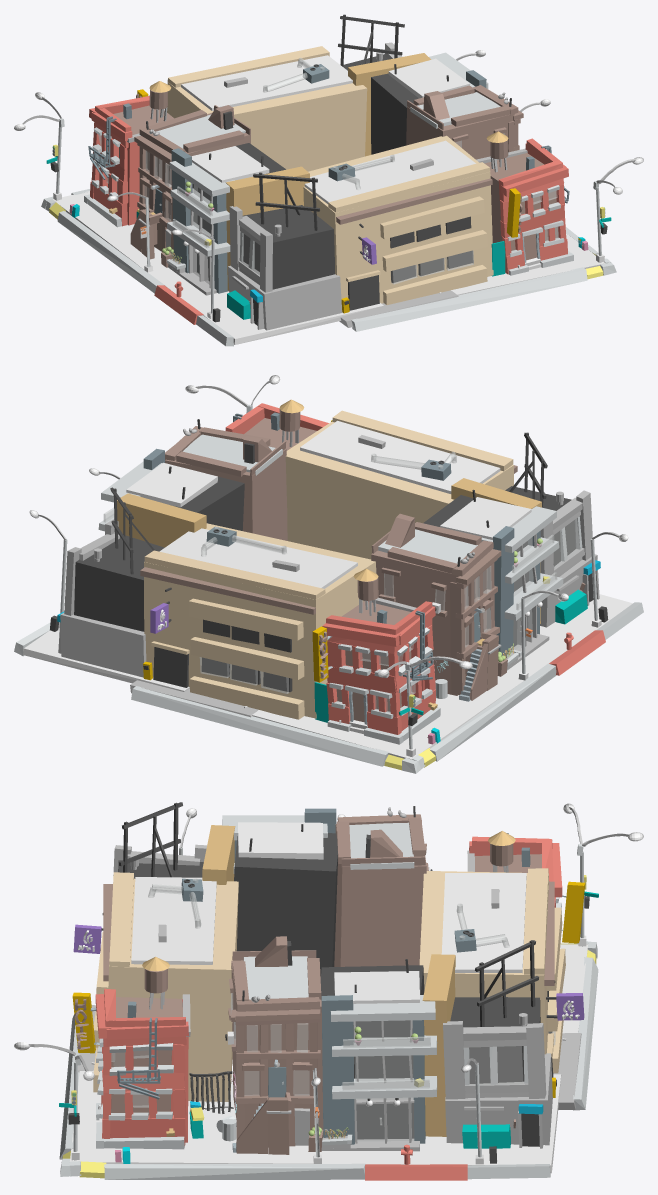
File: xjam building.fbx
3 renders of one model, top to bottom at view 1: azimuth 30°, elevation 25°; view 2: azimuth 150°, elevation 25°; view 3: azimuth 270°, elevation 25°, orthographic. The views are drawn at different scales.
Parts seen in each view (by area): view 1: mesh1801941362.001, mesh1801941362, mesh1699290000.001, mesh1869447468.001, mesh1081257848.001, mesh1081257848, mesh1935230584.001, mesh390325757, mesh1685702034, mesh1459195484.001, mesh1918524894, mesh1443901893 (+39 smaller); view 2: mesh1801941362, mesh1801941362.001, mesh1699290000.001, mesh1081257848, mesh1869447468, mesh1081257848.001, mesh1918524894.001, mesh390325757.001, mesh1935230584, mesh1918524894, mesh1459195484, mesh1443901893.001 (+45 smaller); view 3: mesh1699290000, mesh1685702034.001, mesh1801941362, mesh1918524894.001, mesh1081257848.001, mesh1081257848, mesh1685702034, mesh1801941362.001, mesh1835519988, mesh1466265362, mesh1869447468, mesh1918524894 (+68 smaller).
Part boxes in pixels (x1,y1,x2,y2): mesh1801941362.001: [167, 82, 367, 171]; mesh1801941362: [303, 135, 493, 303]; mesh1699290000.001: [53, 191, 383, 344]; mesh1869447468.001: [242, 205, 334, 289]; mesh1081257848.001: [181, 55, 352, 110]; mesh1081257848: [304, 140, 475, 203]; mesh1935230584.001: [228, 265, 342, 330]; mesh390325757: [351, 267, 587, 331]; mesh1685702034: [371, 73, 418, 154]; mesh1459195484.001: [225, 166, 309, 291]; mesh1918524894: [406, 106, 514, 159]; mesh1443901893: [328, 162, 490, 212]; mesh1801941362: [285, 421, 513, 559]; mesh1801941362.001: [144, 523, 376, 718]; mesh1699290000.001: [252, 594, 632, 759]; mesh1081257848: [300, 420, 500, 493]; mesh1869447468: [74, 533, 164, 631]; mesh1081257848.001: [159, 528, 357, 588]; mesh1918524894.001: [371, 550, 487, 695]; mesh390325757.001: [131, 686, 389, 766]; mesh1935230584: [60, 612, 146, 677]; mesh1918524894: [165, 445, 287, 540]; mesh1459195484: [117, 493, 206, 547]; mesh1443901893.001: [144, 550, 325, 599]; mesh1699290000: [70, 1070, 561, 1173]; mesh1685702034.001: [234, 833, 337, 976]; mesh1801941362: [108, 878, 238, 1101]; mesh1918524894.001: [334, 824, 426, 966]; mesh1081257848.001: [441, 873, 526, 973]; mesh1081257848: [131, 877, 216, 964]; mesh1685702034: [320, 965, 424, 1139]; mesh1801941362.001: [419, 871, 549, 1054]; mesh1835519988: [104, 1163, 365, 1179]; mesh1466265362: [354, 1020, 413, 1140]; mesh1869447468: [450, 997, 540, 1083]; mesh1918524894: [231, 960, 323, 1129].
Bounding box in the file's own units: 646 × 203 × 628.
